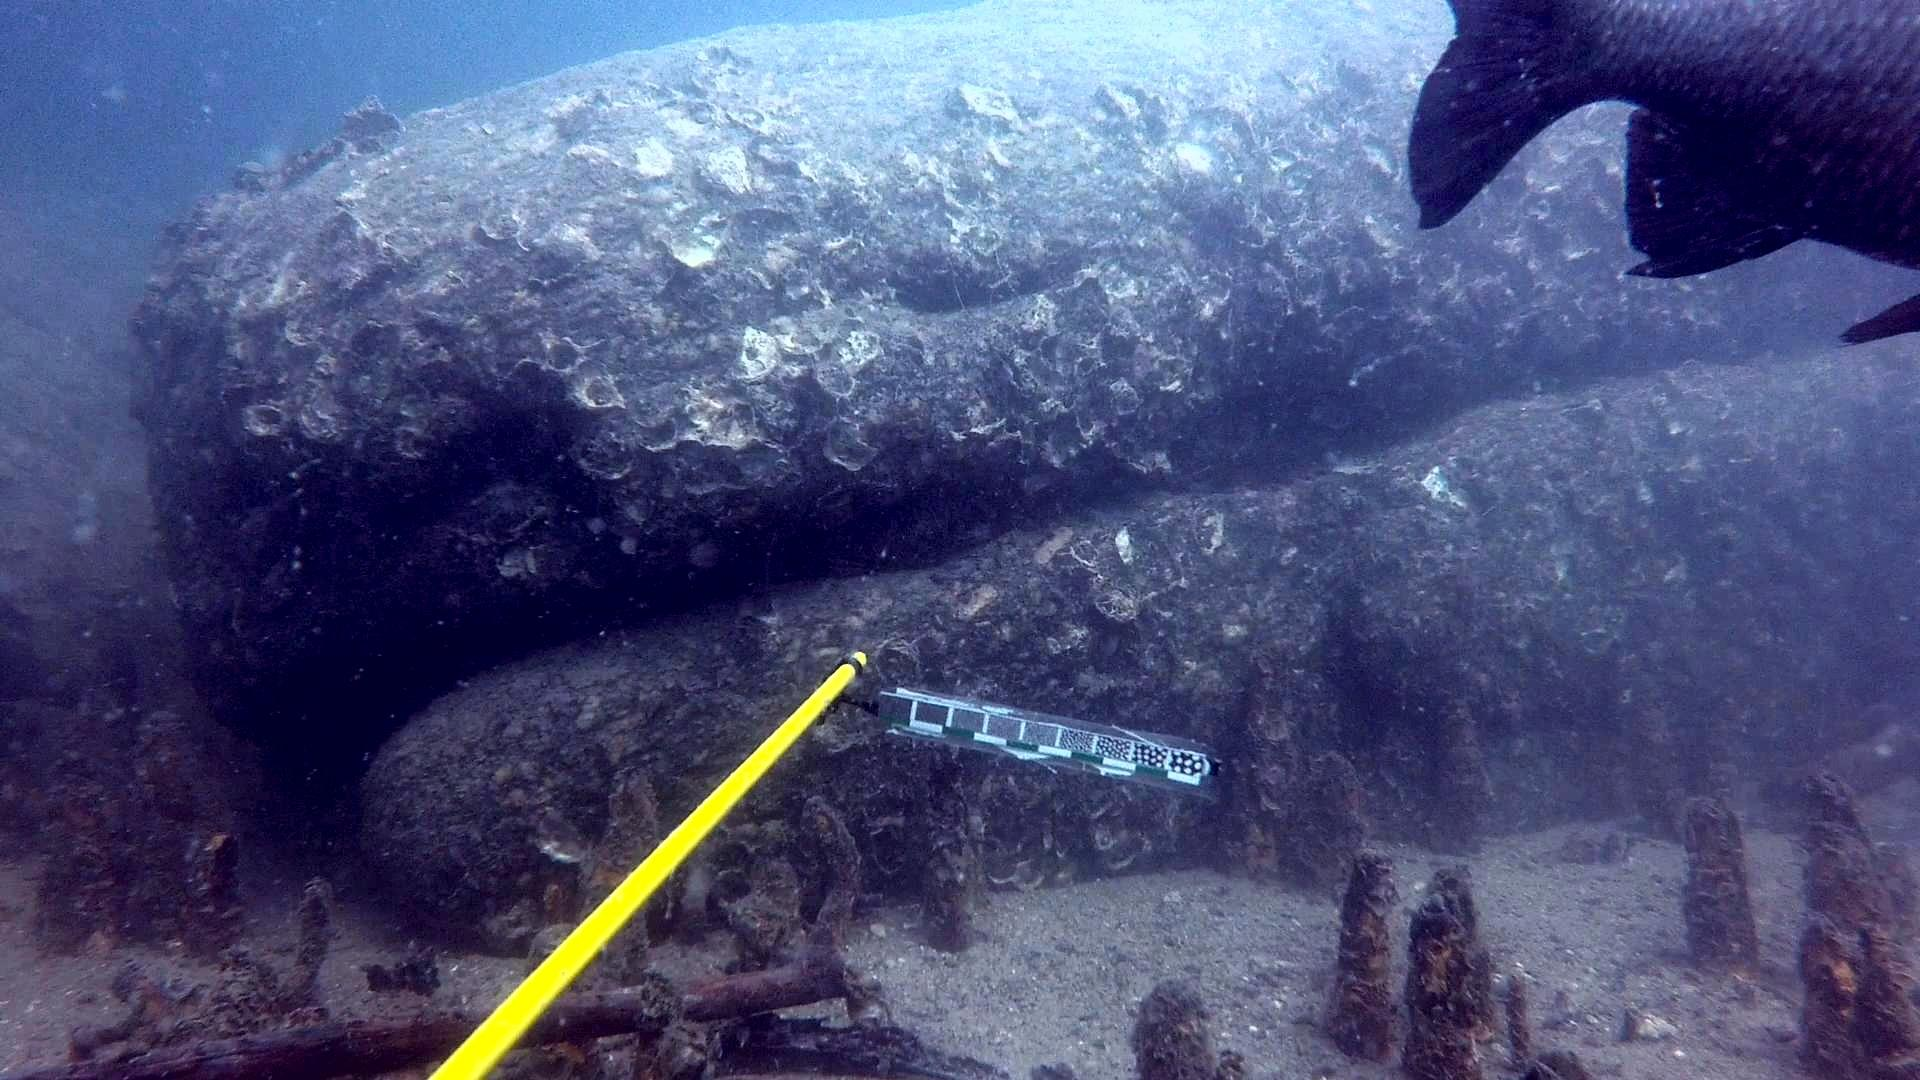acanthopagrus palmaris: (1383, 0, 1920, 365)
